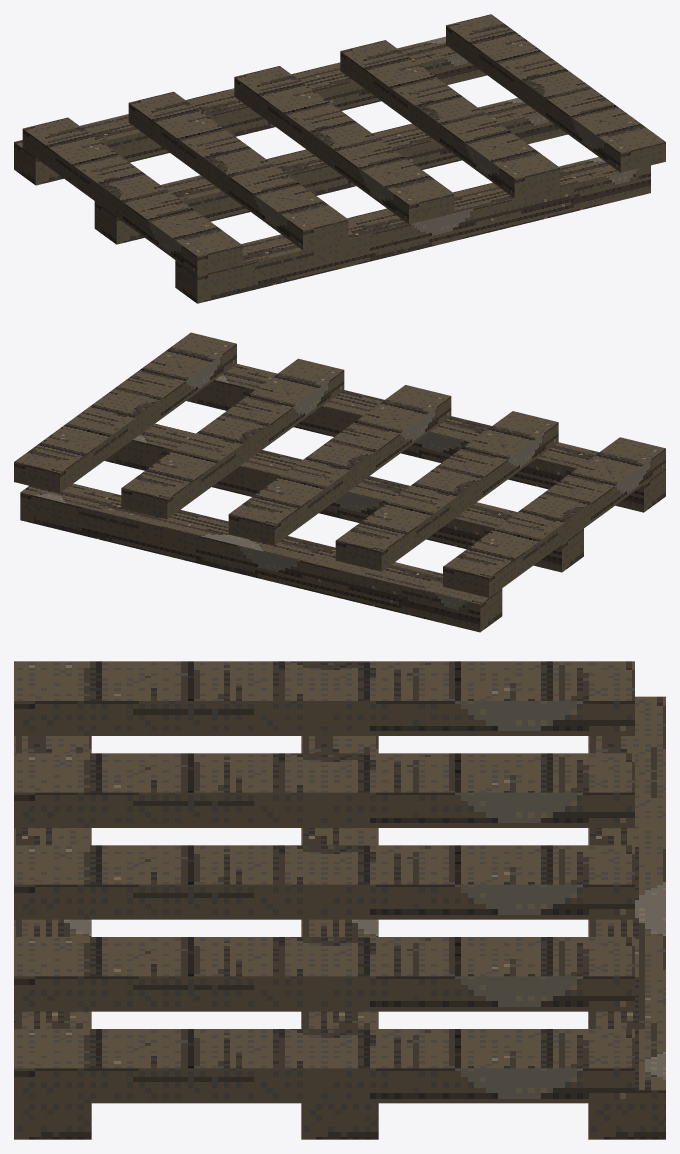
The model's file is SM_Prop_PalletWood_01.glb.
3 renders of one model, top to bottom at view 1: azimuth 30°, elevation 25°; view 2: azimuth 150°, elevation 25°; view 3: azimuth 270°, elevation 25°, orthographic. The views are drawn at different scales.
Parts seen in each view (by area): view 1: SM_Prop_PalletWood_01; view 2: SM_Prop_PalletWood_01; view 3: SM_Prop_PalletWood_01.
Boxes of the visible parts, x1,y1,x2,y2 form: SM_Prop_PalletWood_01: [14, 14, 665, 303]; SM_Prop_PalletWood_01: [14, 332, 665, 632]; SM_Prop_PalletWood_01: [14, 661, 665, 1139].
Size of the model in its own units: 1.24 by 0.12 by 0.84.
1 material, 1 textured.
